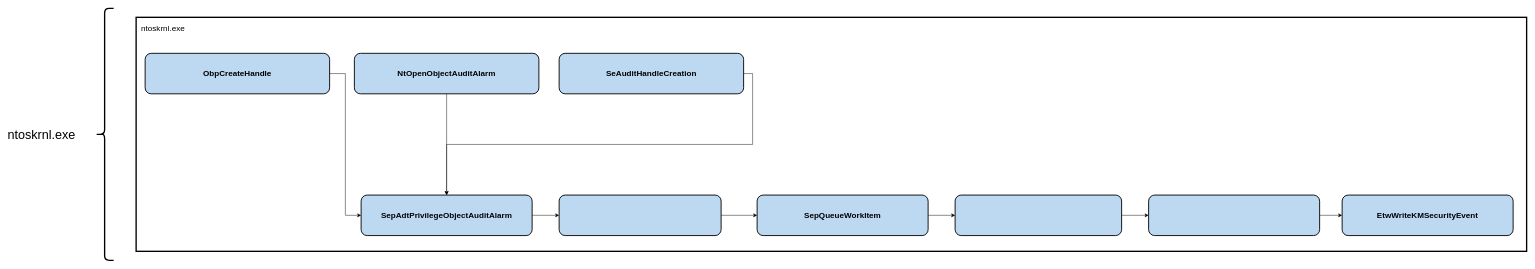
This 1535x269 diagram has some shape labels left out. Here are the shapes that lost their labels. From the top down, the centre of each, then its label:
At (x=639, y=215): "SepAdtLogAuditRecord".
At (x=1038, y=215): "SepRmCallLsa".
At (x=1234, y=215): "AdtpWriteToEtw".
